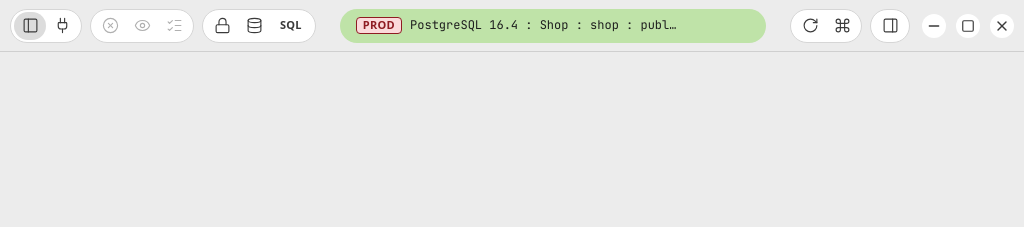
it: a looser saved mode stays enforced until the next open, and the menu says so
This screenshot has width=1024, height=227.
// Opened as prod (confirm writes), switched off since: still confirms writes.
Step 1. Click the button named "Safe mode: confirm writes" → (222, 26), box x1=206 y1=12 x2=238 y2=40
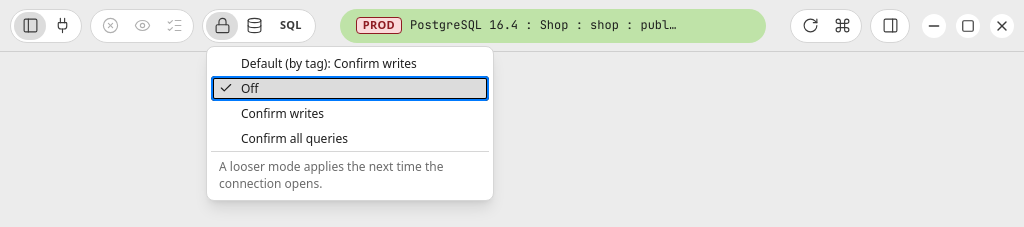
Expected: the text "A looser mode applies the next time the connection opens." is shown, x1=211 y1=151 x2=489 y2=196
Step 2. Press Escape
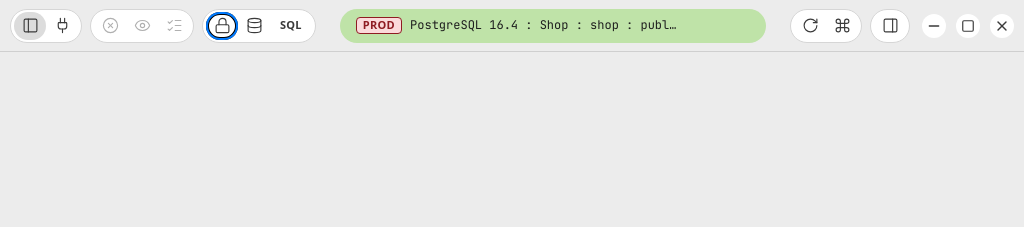
Expected: the menu is gone
